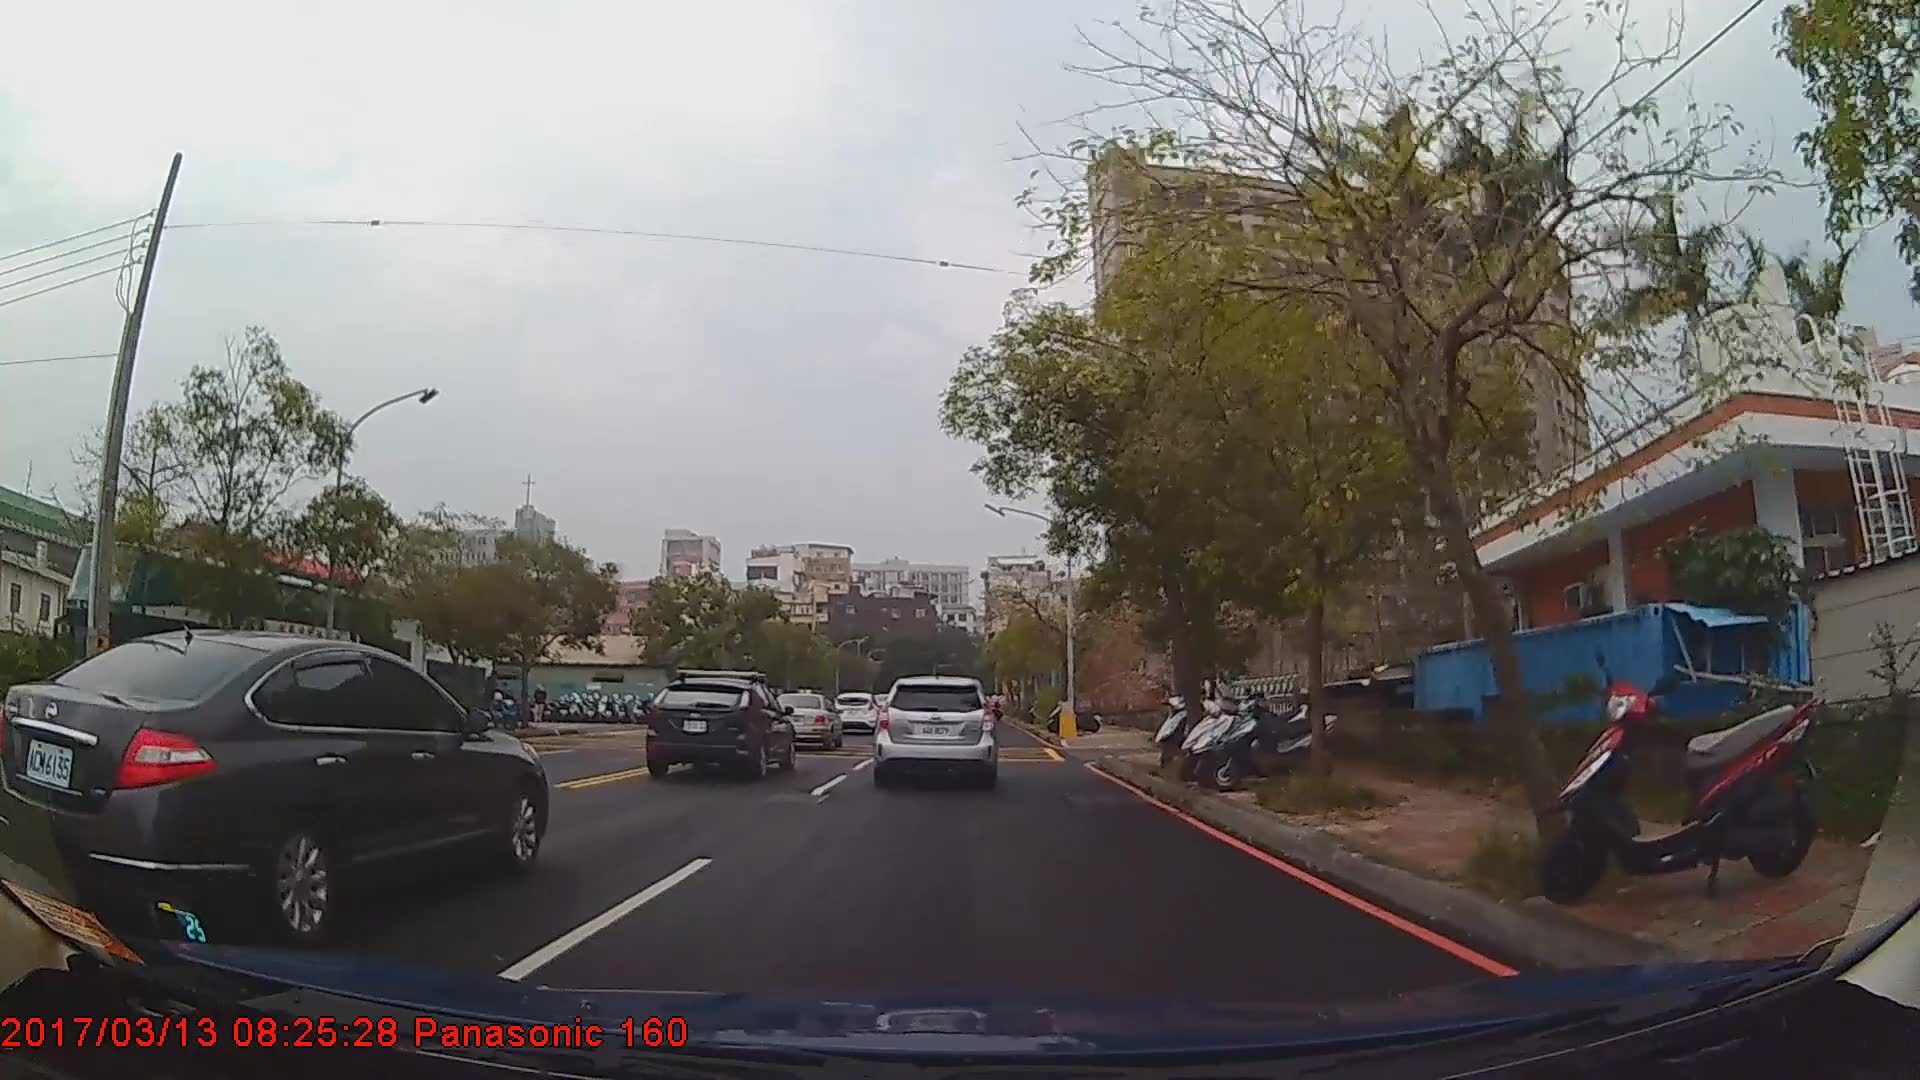vehicle: (0, 628, 549, 943), (47, 534, 390, 746), (644, 673, 796, 781), (877, 671, 1001, 787), (767, 688, 843, 750), (831, 690, 881, 735)
